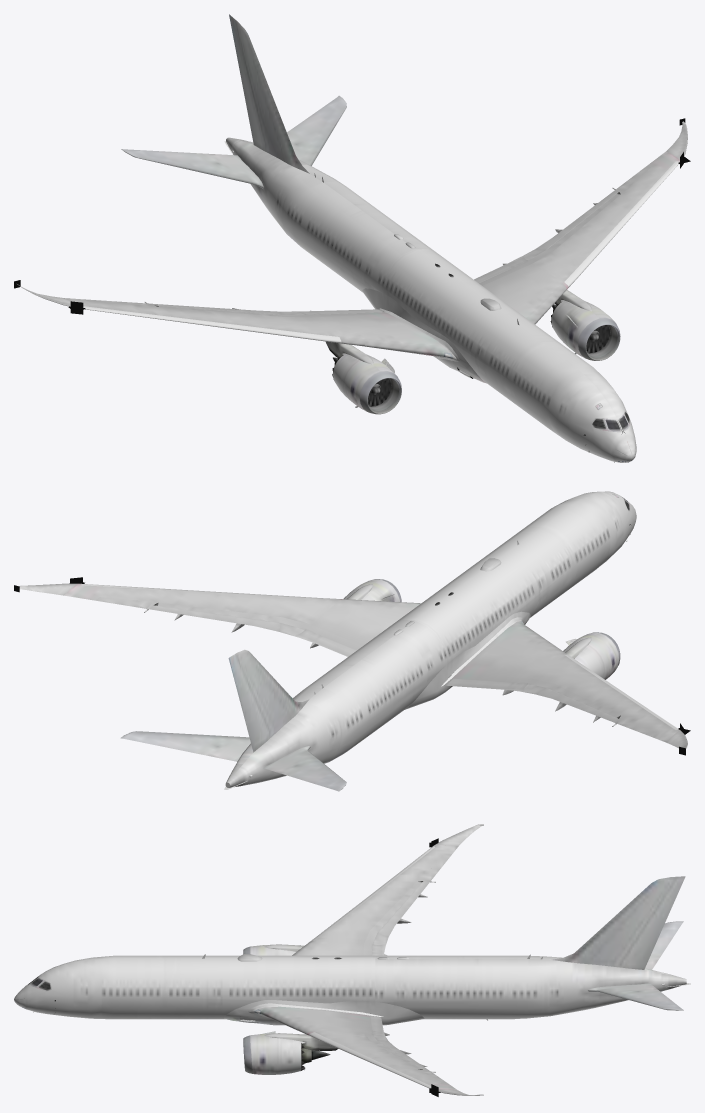
3 views of the same model, one above another, from view 1: azimuth 30°, elevation 25°; view 2: azimuth 150°, elevation 25°; view 3: azimuth 270°, elevation 25° (orthographic). The views are drawn at different scales.
Parts seen in each view (by area): view 1: Object_45_Material.001_0, Object_27_Material.006_0, Object_35_Material.002_0, Object_33_Material.003_0, Object_13_Material.007_0, Object_37_material09_0, Object_39_material09_0, Object_43_Material.008_0; view 2: Object_45_Material.001_0, Object_27_Material.006_0, Object_35_Material.002_0, Object_33_Material.003_0, Object_13_Material.007_0, Object_39_material09_0; view 3: Object_45_Material.001_0, Object_27_Material.006_0, Object_33_Material.003_0, Object_13_Material.007_0, Object_35_Material.002_0, Object_39_material09_0.
Boxes of the visible parts, x1,y1,x2,y2 form: Object_45_Material.001_0: (17,14,687,461); Object_27_Material.006_0: (438,291,599,435); Object_35_Material.002_0: (483,151,679,318); Object_33_Material.003_0: (65,298,450,358); Object_13_Material.007_0: (548,370,636,462); Object_37_material09_0: (83,306,341,343); Object_39_material09_0: (564,161,679,287); Object_43_Material.008_0: (332,301,625,462); Object_45_Material.001_0: (19,494,687,791); Object_27_Material.006_0: (452,501,610,626); Object_35_Material.002_0: (64,583,419,645); Object_33_Material.003_0: (458,621,680,742); Object_13_Material.007_0: (560,491,636,565); Object_39_material09_0: (81,583,340,599); Object_45_Material.001_0: (16,824,686,1095); Object_27_Material.006_0: (101,955,278,1023); Object_33_Material.003_0: (296,845,458,955); Object_13_Material.007_0: (14,957,101,1018); Object_35_Material.002_0: (258,1006,457,1090); Object_39_material09_0: (309,1032,431,1088).
Size of the model in its own units: 59.87 by 15.63 by 62.8.
Materials: 11 (4 with a texture image).
